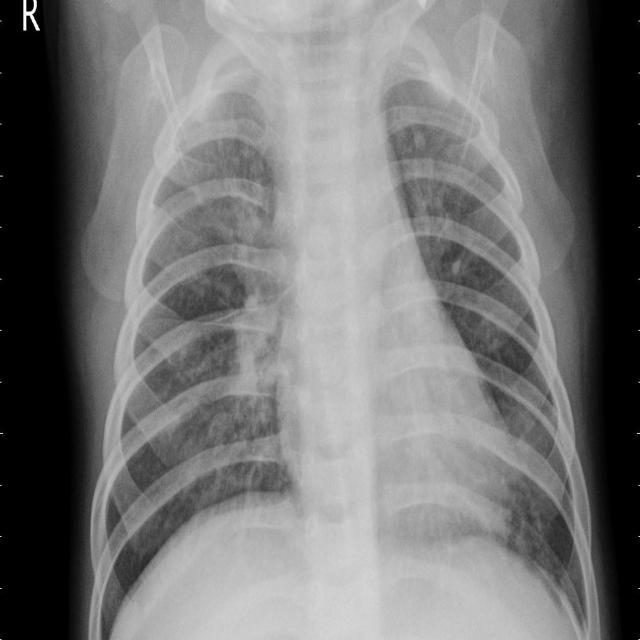low-pneumonia: (214, 183, 285, 433), (395, 102, 461, 275)
